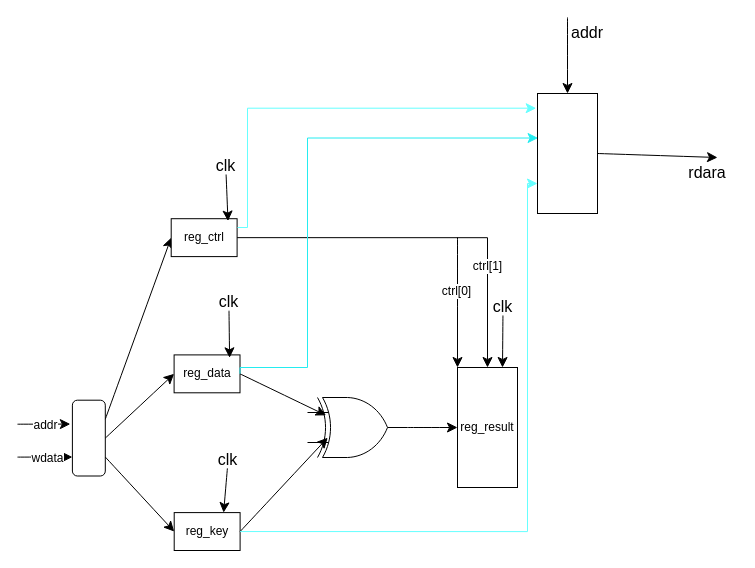
The diagram is 755 pixels wide and 568 high, and some of its shapes have lost their labels. The shapes that lost their labels are listed below. From the top down, each one's centre as x and y in pixels, then its label:
At (x=567, y=153): "mux_rdata".
At (x=88, y=437): "decoder 2 to 3".
